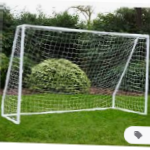goals: (1, 23, 150, 124)
